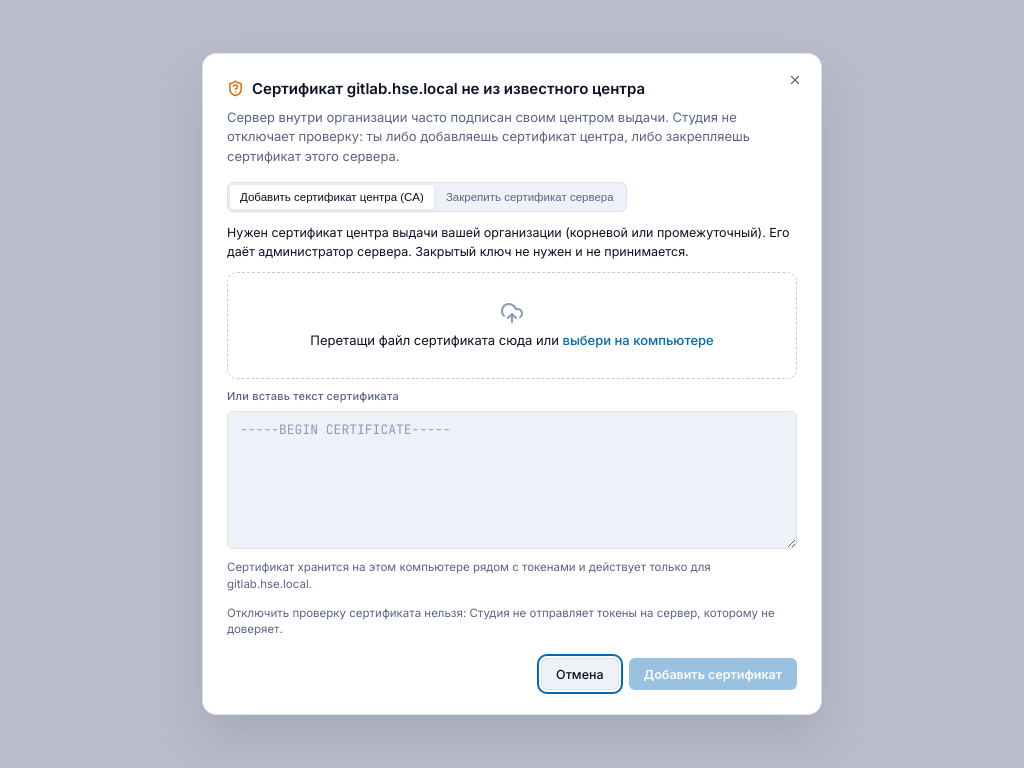
Scenario: TlsTrustDialog › текст без сертификата объясняется после ухода из поля
Click the text box with test id "tls-ca-text": (512,480) [227,410,797,549]
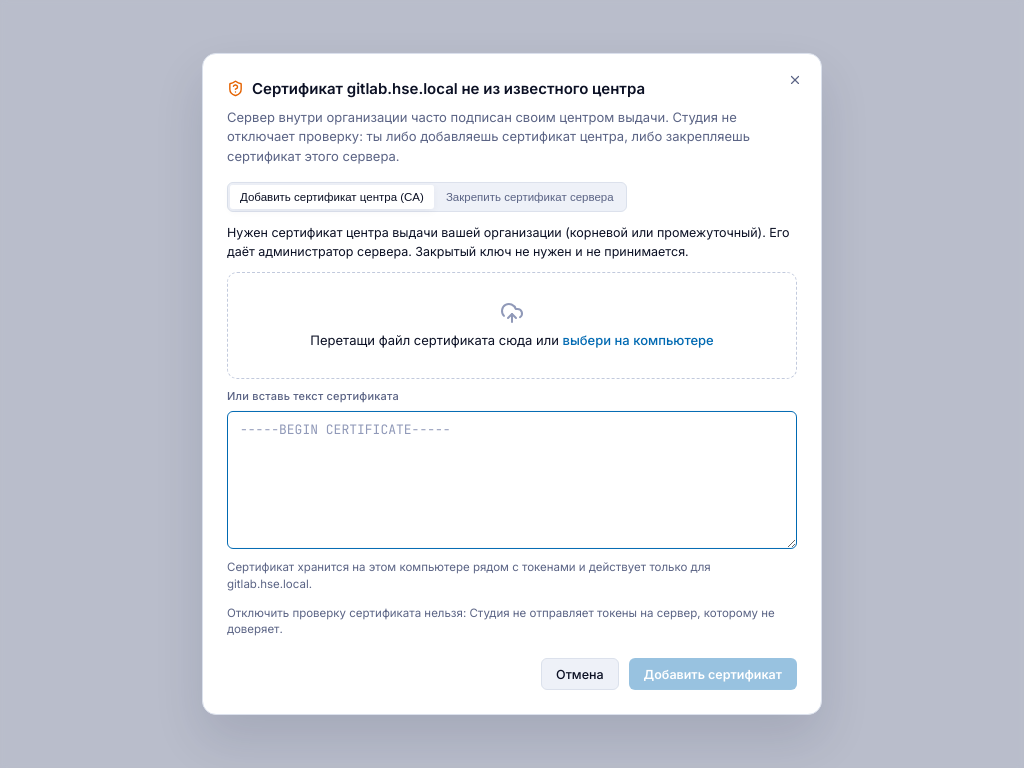
Type keys "просто текст"
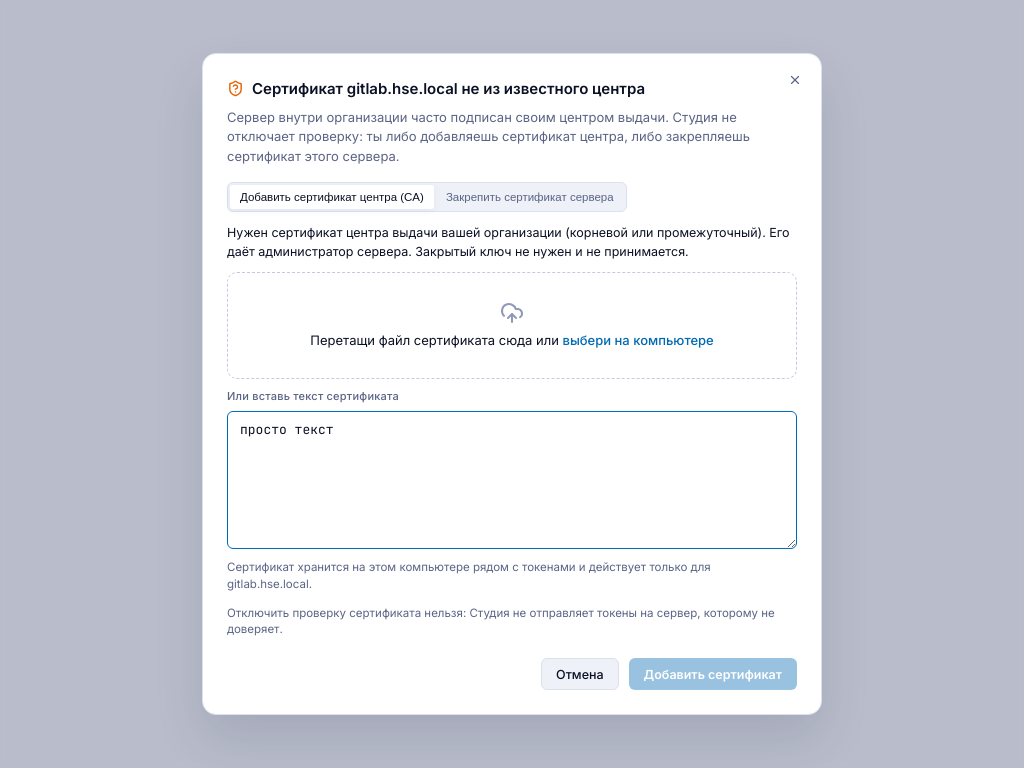
Expected: the text "Не похоже на сертификат" is not shown
Press Tab
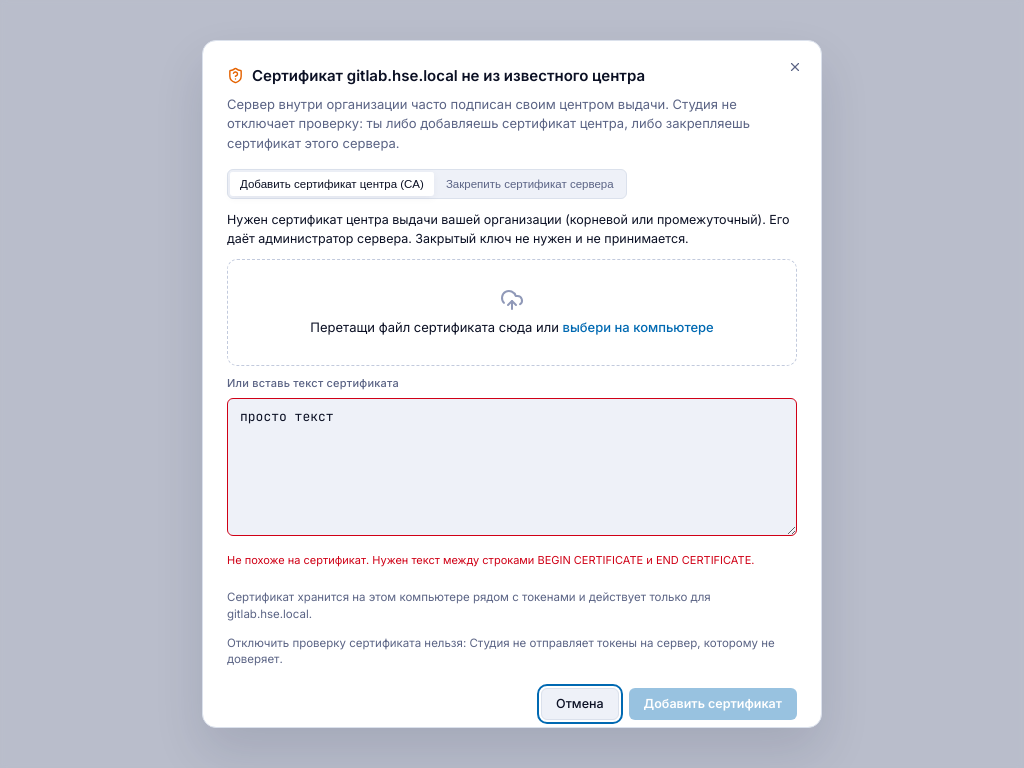
Expected: the text "Не похоже на сертификат" is shown, [227,553,754,567]
